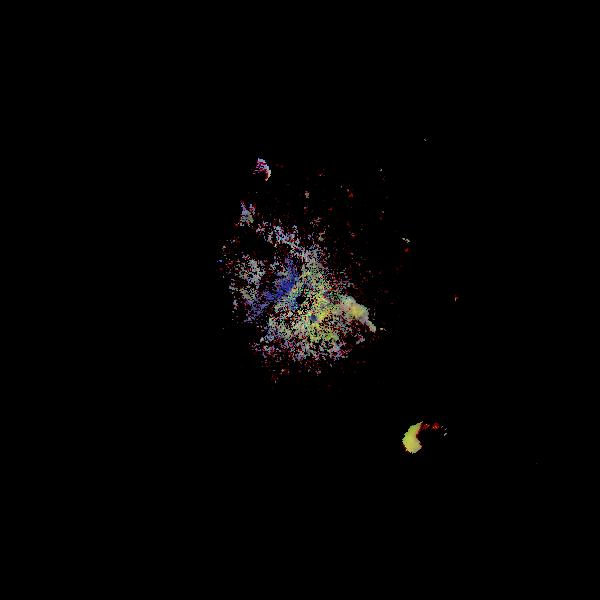roost: (318, 296, 384, 362), (396, 413, 459, 476)
